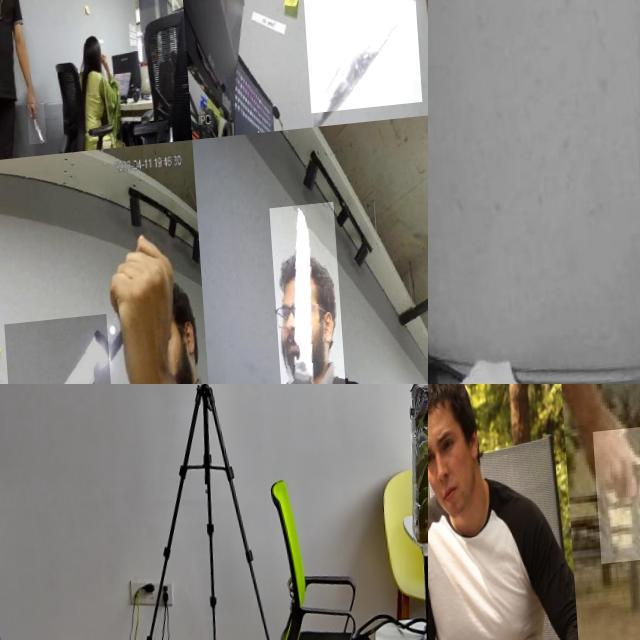-: (299, 0, 418, 122), (264, 211, 338, 384), (587, 429, 640, 571), (0, 318, 107, 384), (428, 540, 445, 638), (580, 384, 620, 422), (428, 384, 447, 432), (23, 106, 42, 148)
gun-knife-thesis - v11 Yolov5 augmented: (0, 384, 16, 428)
